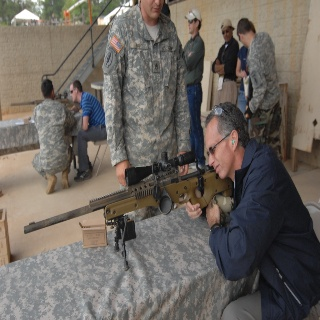rifle: (23, 150, 235, 234)
